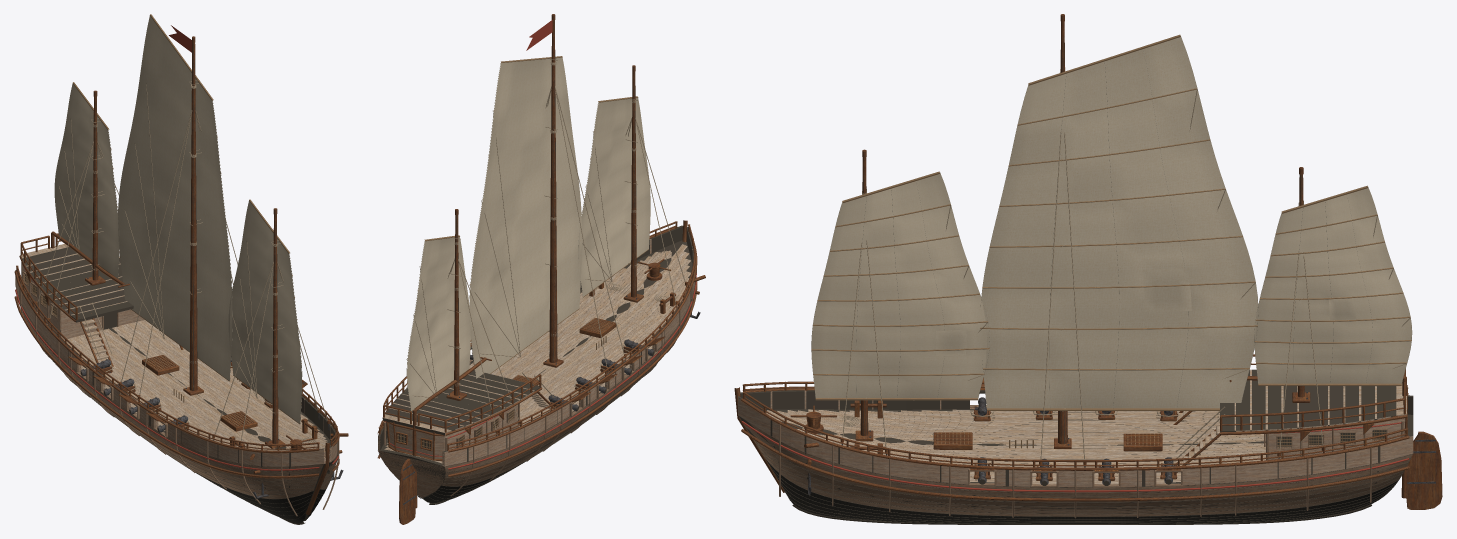
File: fuchuan-lod1.glb
The picture shows the model from 3 angles, left to right: view 1: azimuth 30°, elevation 25°; view 2: azimuth 150°, elevation 25°; view 3: azimuth 270°, elevation 25°; orthographic projection. The views are drawn at different scales.
Visible parts, largest first — view 1: sail_1, hull, deck, sail_0, sail_2, shadow_deck, deck_fittings, bulwark_rails, mast_timber_1, shadow_hull, sterncastle, mast_timber_0 (+8 smaller); view 2: sail_1, deck, hull, sail_0, sail_2, shadow_deck, deck_fittings, shadow_hull, bulwark_rails, mast_timber_1, mast_timber_0, stern_transom (+9 smaller); view 3: sail_1, hull, sail_0, sail_2, deck, shadow_hull, shadow_deck, bulwark_rails, deck_fittings, rudder_blade, sterncastle, rigging_1.
Boxes of the visible parts, x1=… form: sail_1: x1=118, y1=14, x2=232, y2=381; hull: x1=14, y1=270, x2=339, y2=524; deck: x1=19, y1=244, x2=330, y2=450; sail_0: x1=228, y1=199, x2=302, y2=424; sail_2: x1=54, y1=82, x2=119, y2=278; shadow_deck: x1=22, y1=247, x2=133, y2=322; deck_fittings: x1=21, y1=262, x2=348, y2=498; bulwark_rails: x1=16, y1=233, x2=338, y2=452; mast_timber_1: x1=189, y1=43, x2=197, y2=390; shadow_hull: x1=15, y1=270, x2=337, y2=521; sterncastle: x1=23, y1=266, x2=144, y2=339; mast_timber_0: x1=272, y1=214, x2=278, y2=443; sail_1: x1=469, y1=56, x2=582, y2=378; deck: x1=382, y1=244, x2=690, y2=463; hull: x1=377, y1=220, x2=697, y2=504; sail_0: x1=578, y1=96, x2=650, y2=297; sail_2: x1=406, y1=235, x2=470, y2=411; shadow_deck: x1=383, y1=370, x2=540, y2=435; deck_fittings: x1=383, y1=259, x2=705, y2=461; shadow_hull: x1=378, y1=225, x2=695, y2=502; bulwark_rails: x1=378, y1=221, x2=695, y2=451; mast_timber_1: x1=549, y1=20, x2=557, y2=362; mast_timber_0: x1=631, y1=71, x2=636, y2=297; stern_transom: x1=388, y1=423, x2=444, y2=458; sail_1: x1=980, y1=34, x2=1258, y2=410; hull: x1=734, y1=387, x2=1413, y2=524; sail_0: x1=811, y1=171, x2=989, y2=400; sail_2: x1=1254, y1=185, x2=1412, y2=386; deck: x1=766, y1=369, x2=1407, y2=484; shadow_hull: x1=738, y1=390, x2=1413, y2=523; shadow_deck: x1=1220, y1=369, x2=1396, y2=432; bulwark_rails: x1=742, y1=354, x2=1408, y2=467; deck_fittings: x1=790, y1=385, x2=1407, y2=494; rudder_blade: x1=1406, y1=431, x2=1442, y2=509; sterncastle: x1=1266, y1=418, x2=1404, y2=460; rigging_1: x1=1039, y1=132, x2=1086, y2=473.
Bounding box in the file's own units: 10.4 × 26.65 × 33.55.
13 materials, 8 textured.
